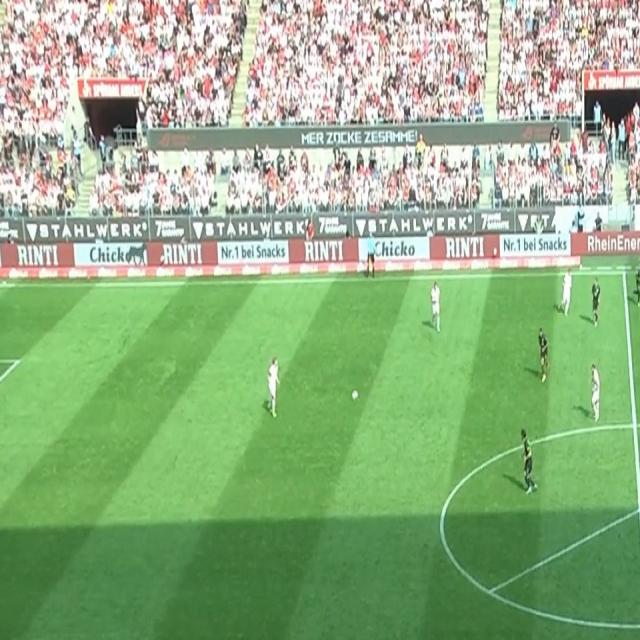ball: (351, 388, 359, 401)
